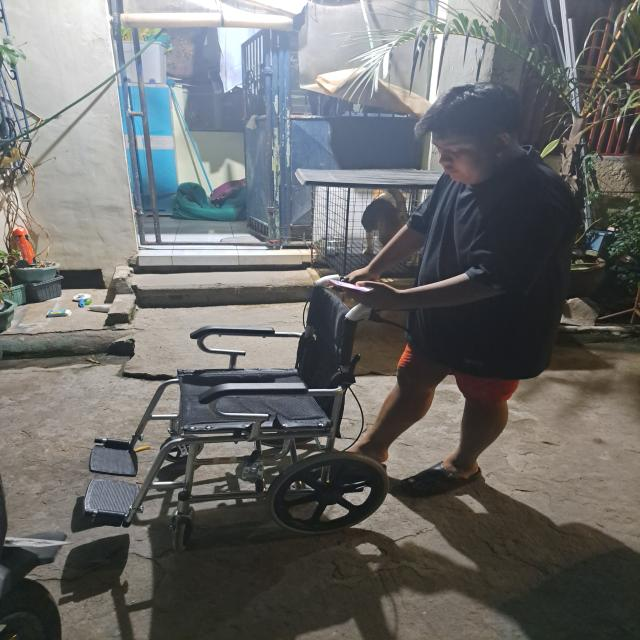wheelchairs: (86, 273, 397, 537)
